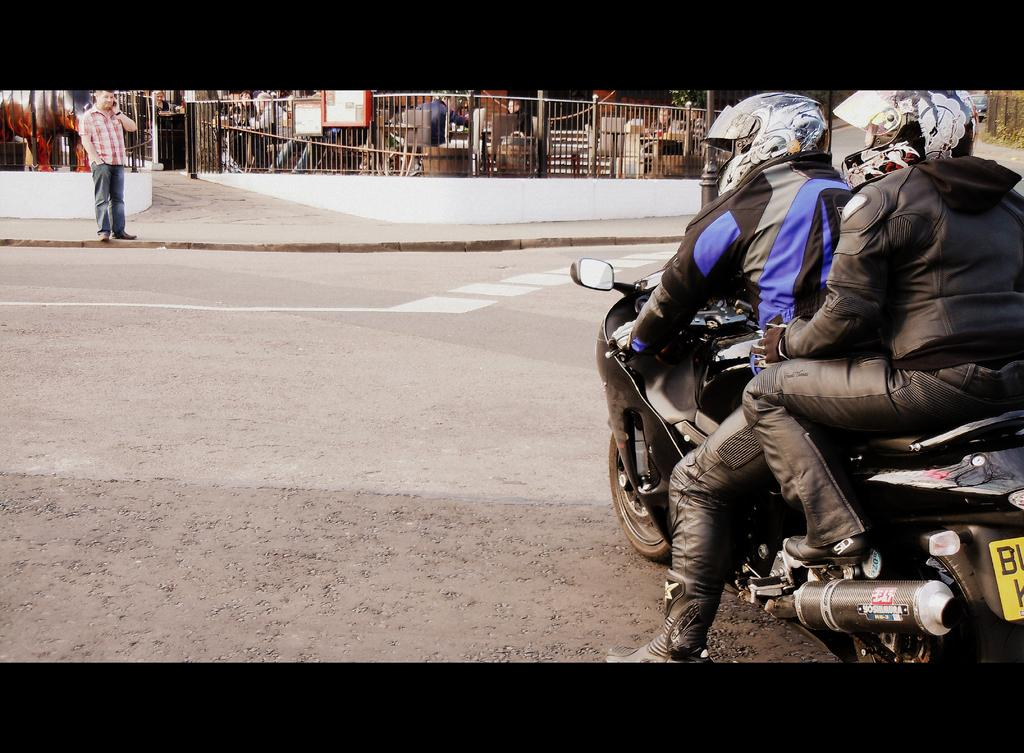helmet: (832, 90, 979, 195), (703, 92, 830, 199)
